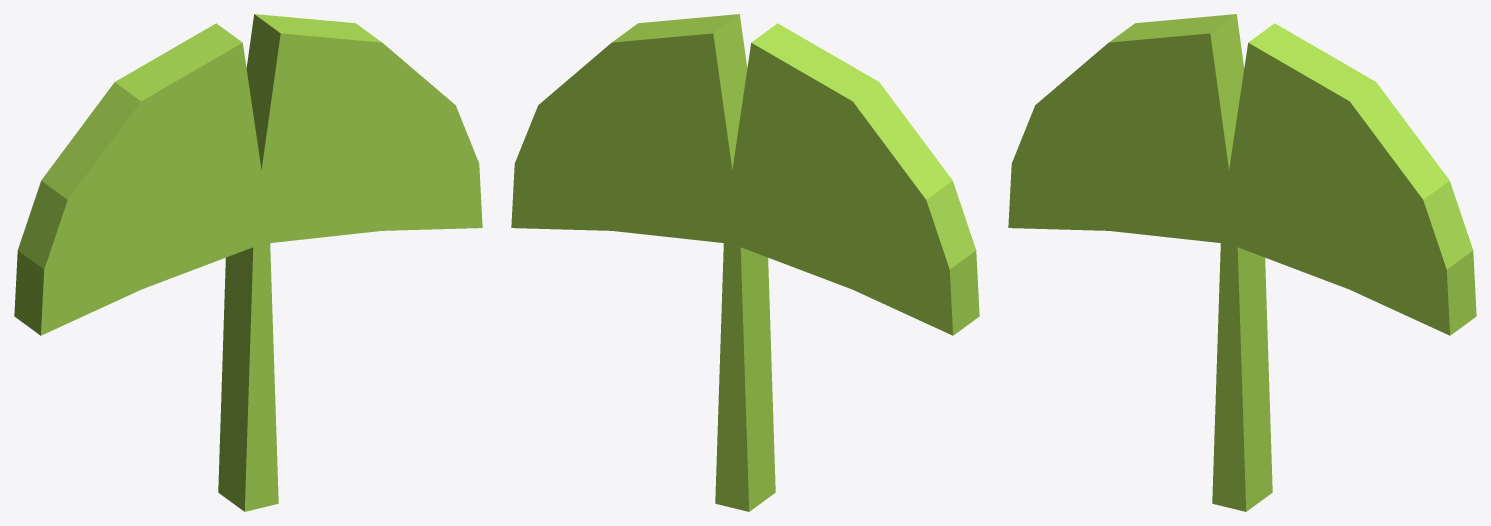
File: GinkgoLeaf.fbx
3 views of the same model, side by side, from view 1: azimuth 30°, elevation 25°; view 2: azimuth 150°, elevation 25°; view 3: azimuth 330°, elevation 25° (orthographic).
Parts seen in each view (by area): view 1: Plane.001; view 2: Plane.001; view 3: Plane.001.
Boxes of the visible parts, left/top/right/bottom form: Plane.001: left=14, top=14, right=482, bottom=511; Plane.001: left=511, top=14, right=979, bottom=511; Plane.001: left=1008, top=14, right=1476, bottom=511.
Size of the model in its own units: 96.23 by 97.79 by 10.
